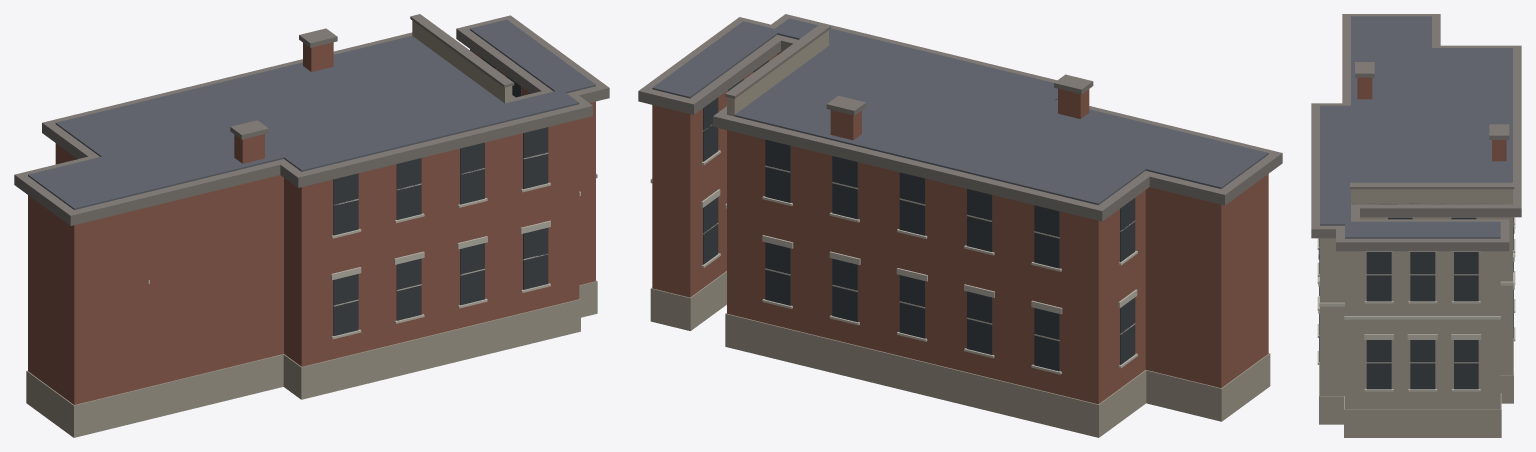
Rendered from house_1712_prairie__draft_1904.glb.
3 renders of one model, left to right at view 1: azimuth 30°, elevation 25°; view 2: azimuth 150°, elevation 25°; view 3: azimuth 270°, elevation 25°, orthographic. The views are drawn at different scales.
Visible parts, largest first — view 1: house_1712_prairie__draft_1904; view 2: house_1712_prairie__draft_1904; view 3: house_1712_prairie__draft_1904.
Part boxes in pixels (box(x1,y1,x2,y2)): house_1712_prairie__draft_1904: box(14, 14, 609, 437); house_1712_prairie__draft_1904: box(638, 14, 1282, 437); house_1712_prairie__draft_1904: box(1311, 14, 1521, 437).
Size of the model in its own units: 21.7 by 10.04 by 8.45.
